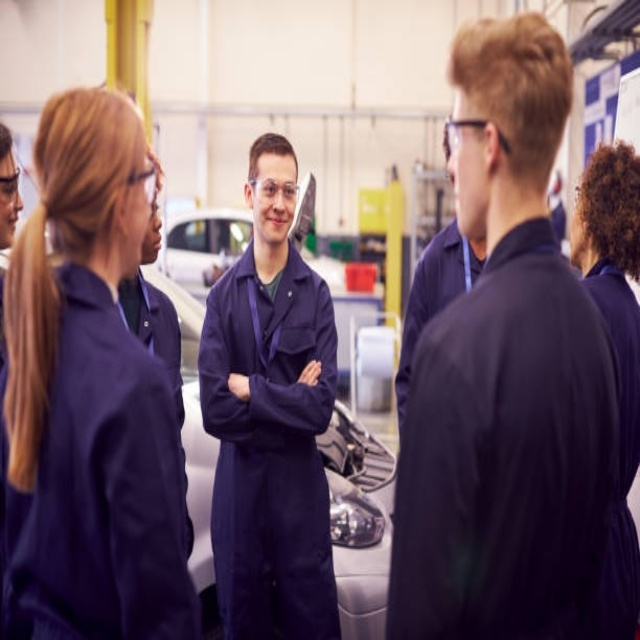Gafas: (444, 107, 489, 152), (122, 154, 159, 202), (249, 173, 301, 207), (1, 165, 21, 202)
Sin_guantes: (295, 356, 325, 389)
Sin_mascara: (445, 160, 481, 237), (258, 210, 290, 237), (4, 205, 20, 243), (147, 229, 164, 257)
